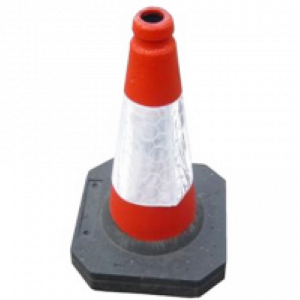traffic cone: (70, 6, 227, 298)
